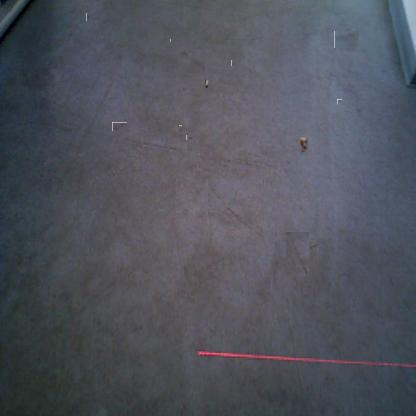dirty: (300, 138, 308, 152), (206, 78, 210, 88)
mark: (206, 179, 264, 237), (280, 237, 314, 271), (178, 48, 204, 74), (336, 29, 358, 50), (112, 122, 127, 131), (182, 86, 189, 93), (186, 134, 193, 140), (86, 13, 91, 21), (231, 60, 236, 66), (178, 125, 182, 132), (337, 99, 342, 104), (162, 37, 168, 41), (171, 38, 175, 43)
